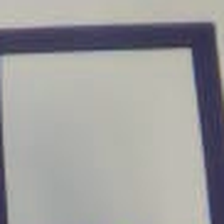empty: (3, 54, 202, 224)
